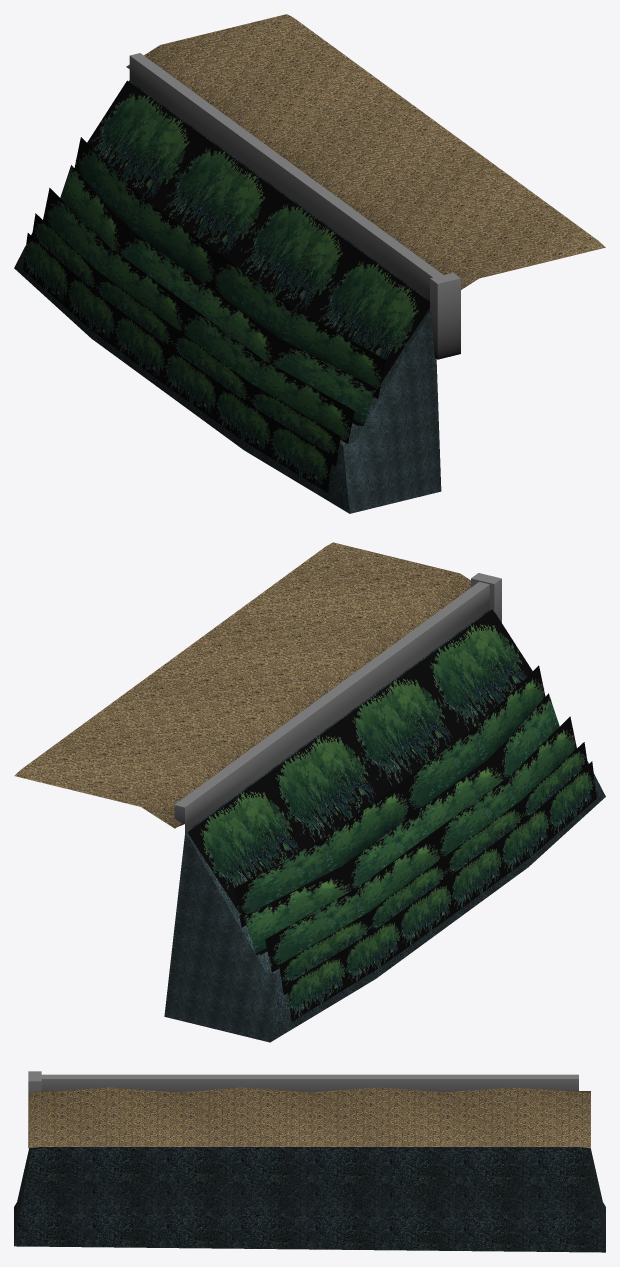
Rendered from BIWA_00_R.glb.
3 renders of one model, top to bottom at view 1: azimuth 30°, elevation 25°; view 2: azimuth 150°, elevation 25°; view 3: azimuth 270°, elevation 25°, orthographic. The views are drawn at different scales.
Visible parts, largest first — view 1: Model; view 2: Model; view 3: Model.
Boxes of the visible parts, x1,y1,x2,y2 form: Model: (14,14,605,513); Model: (14,542,605,1042); Model: (14,1071,605,1252).
Size of the model in its own units: 53.37 by 36.27 by 110.
Materials: 5 (5 with a texture image).
